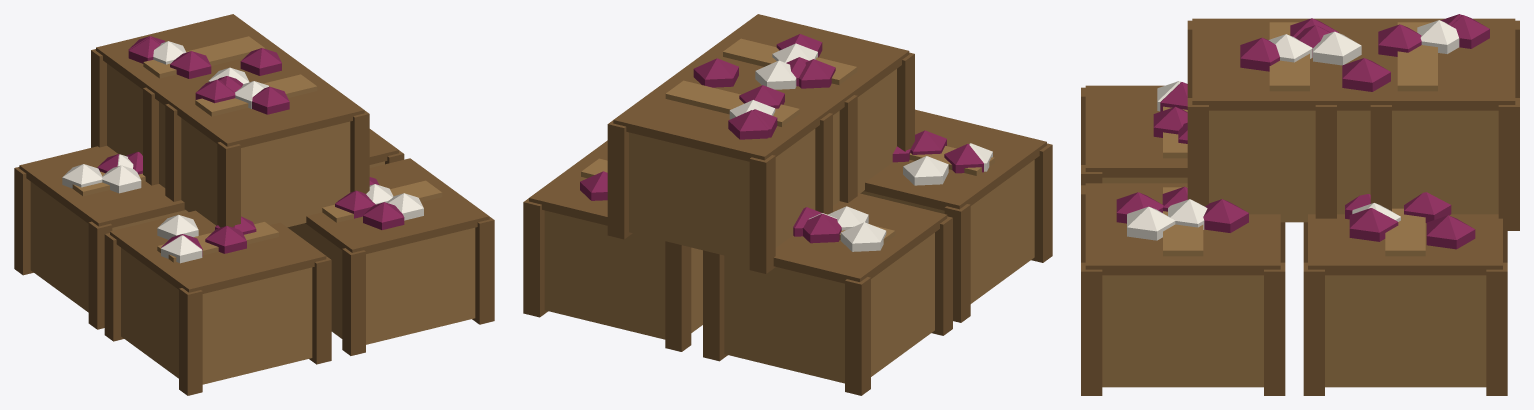
File: pile_roots_3.glb
The picture shows the model from 3 angles, left to right: view 1: azimuth 30°, elevation 25°; view 2: azimuth 150°, elevation 25°; view 3: azimuth 270°, elevation 25°; orthographic projection. The views are drawn at different scales.
Visible parts, largest first — view 1: pile_roots_3; view 2: pile_roots_3; view 3: pile_roots_3.
Boxes of the visible parts, x1,y1,x2,y2 form: pile_roots_3: (14,14,494,395); pile_roots_3: (523,14,1052,395); pile_roots_3: (1081,14,1519,395).
Size of the model in its own units: 1.43 by 0.969 by 1.44.
